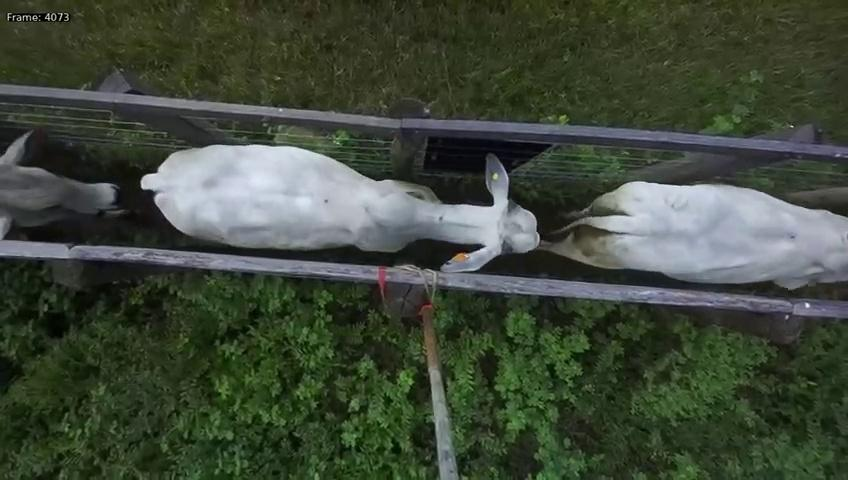cattle: (140, 127, 541, 272), (547, 174, 848, 292)
